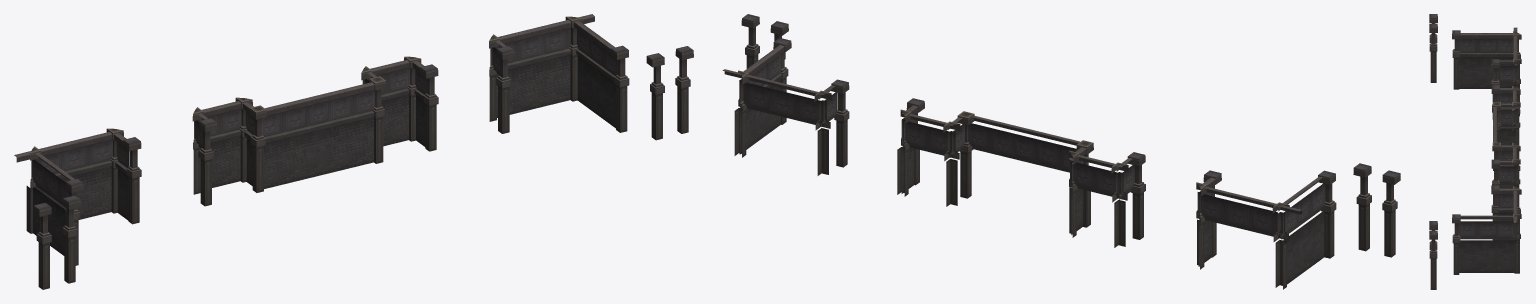
The picture shows the model from 3 angles, left to right: view 1: azimuth 30°, elevation 25°; view 2: azimuth 150°, elevation 25°; view 3: azimuth 270°, elevation 25°; orthographic projection. The views are drawn at different scales.
Visible parts, largest first — view 1: Object031; view 2: Object031; view 3: Object031.
Part boxes in pixels (x1=…): Object031: x1=14, y1=14, x2=693, y2=289; Object031: x1=722, y1=14, x2=1400, y2=289; Object031: x1=1429, y1=14, x2=1521, y2=289.
Bounding box in the file's own units: 3510 × 423 × 621.
1 material, 1 textured.
